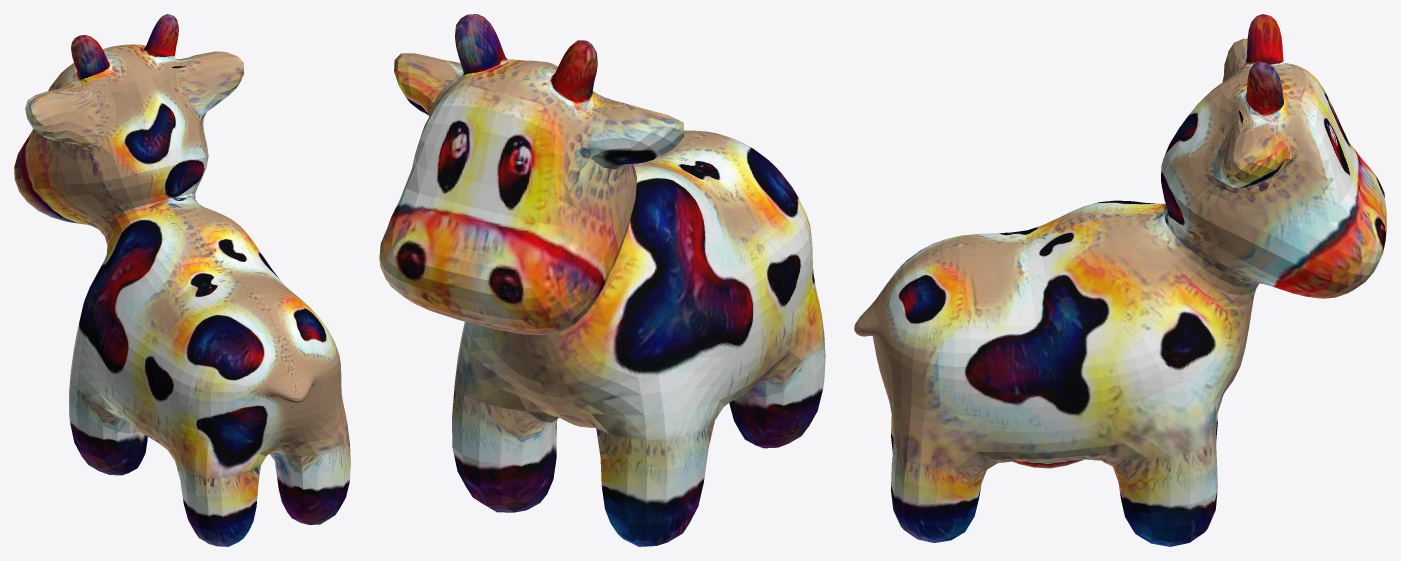
Rendered from cow_ours.glb.
The picture shows the model from 3 angles, left to right: view 1: azimuth 30°, elevation 25°; view 2: azimuth 150°, elevation 25°; view 3: azimuth 270°, elevation 25°; orthographic projection. The views are drawn at different scales.
Visible parts, largest first — view 1: cow; view 2: cow; view 3: cow.
Boxes of the visible parts, box(x1,y1,x2,y2) form: cow: box(14, 14, 350, 546); cow: box(379, 14, 825, 546); cow: box(854, 14, 1386, 546).
Size of the model in its own units: 0.9431 by 1.69 by 1.72.
1 material, 1 textured.
